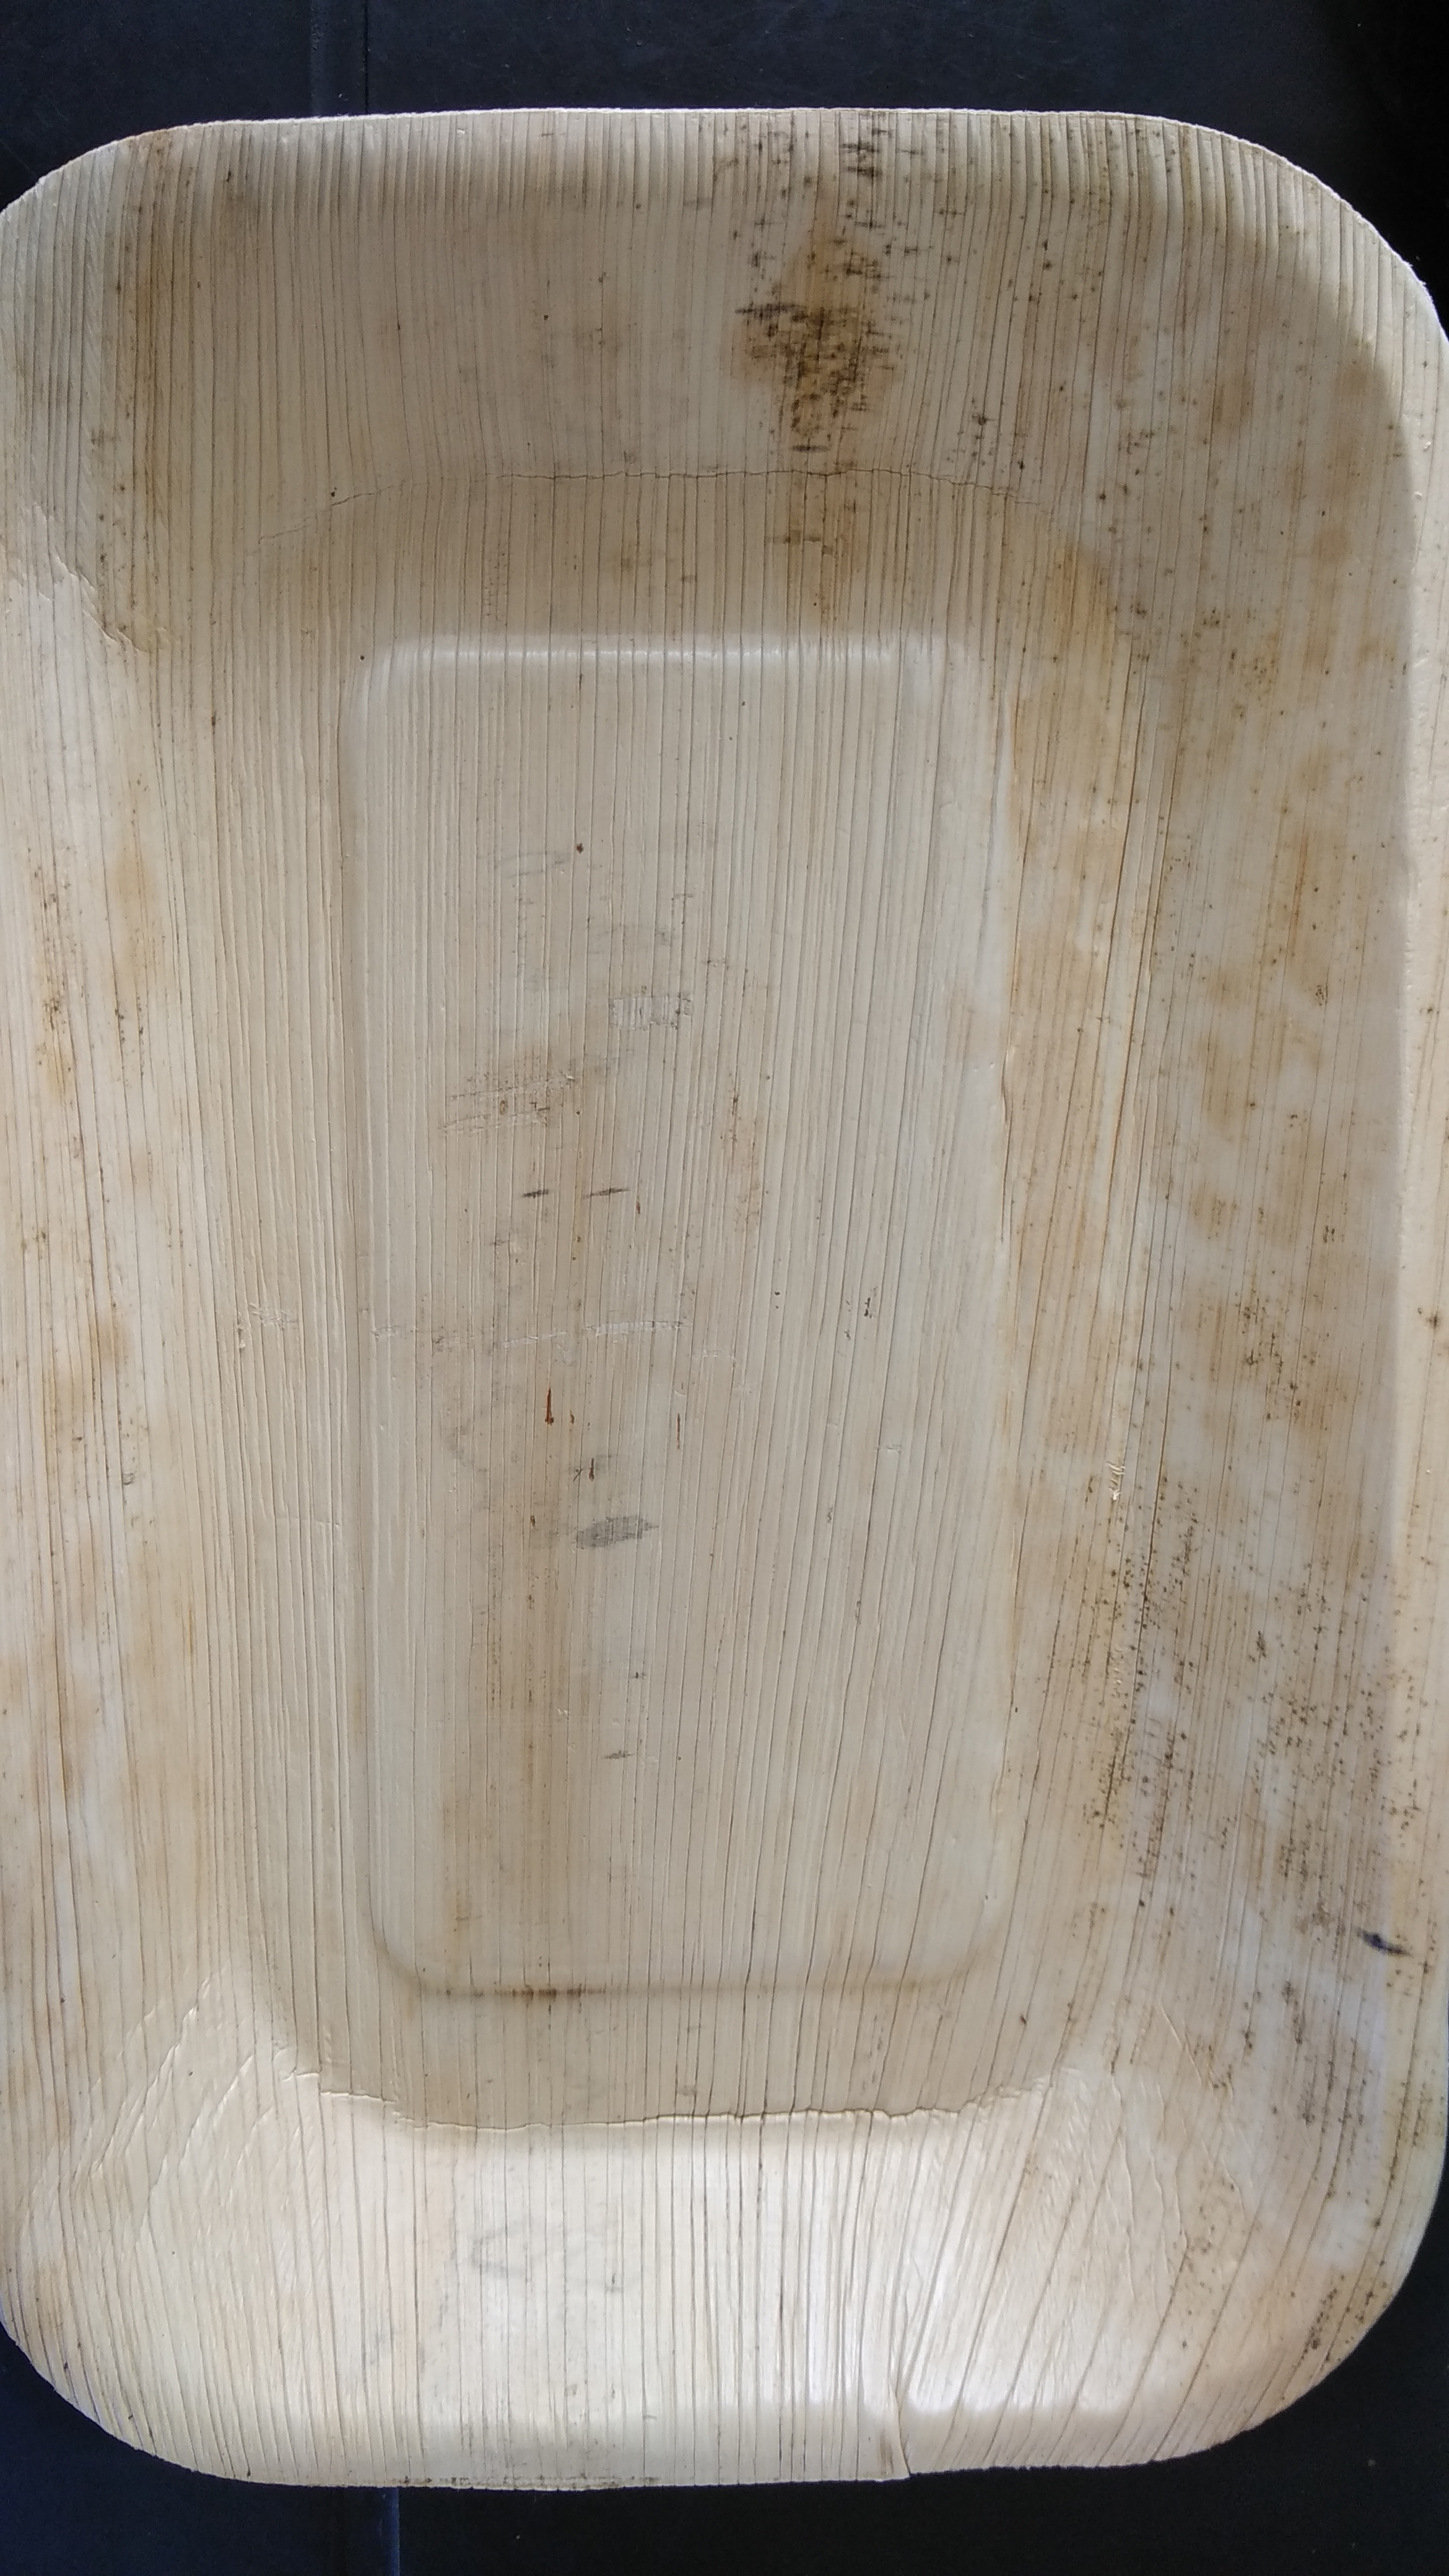areca plate: (37, 46, 1424, 2473)
